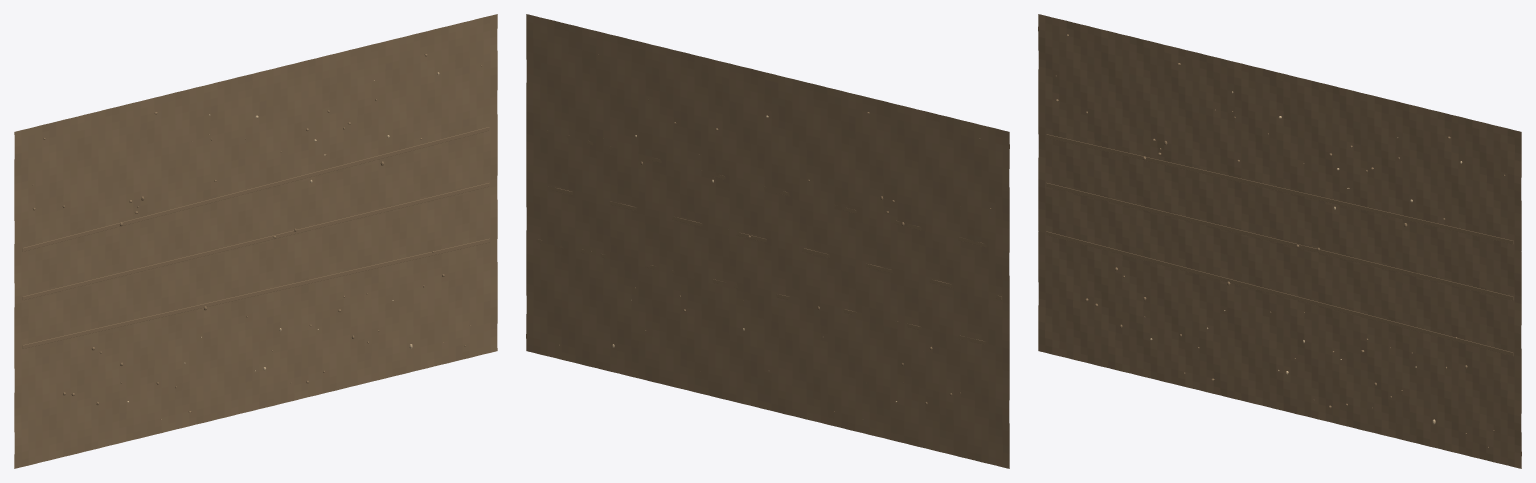
File: soil_patch_6x4.glb
3 renders of one model, left to right at view 1: azimuth 30°, elevation 25°; view 2: azimuth 150°, elevation 25°; view 3: azimuth 330°, elevation 25°, orthographic.
Parts seen in each view (by area): view 1: visual_soil_surface, darker_furrow_0, darker_furrow_1, darker_furrow_2; view 2: visual_soil_surface, darker_furrow_1, darker_furrow_0, darker_furrow_2; view 3: visual_soil_surface, darker_furrow_0, darker_furrow_1, darker_furrow_2.
Boxes of the visible parts, x1=… form: visual_soil_surface: x1=14, y1=14, x2=497, y2=468; darker_furrow_0: x1=22, y1=238, x2=489, y2=348; darker_furrow_1: x1=22, y1=183, x2=489, y2=300; darker_furrow_2: x1=22, y1=127, x2=489, y2=251; visual_soil_surface: x1=526, y1=14, x2=1009, y2=468; darker_furrow_1: x1=548, y1=186, x2=1001, y2=299; darker_furrow_0: x1=536, y1=239, x2=986, y2=344; darker_furrow_2: x1=544, y1=130, x2=986, y2=247; visual_soil_surface: x1=1038, y1=14, x2=1521, y2=468; darker_furrow_0: x1=1046, y1=231, x2=1513, y2=356; darker_furrow_1: x1=1046, y1=183, x2=1513, y2=300; darker_furrow_2: x1=1046, y1=134, x2=1513, y2=244.
Size of the model in its own units: 6 by 4 by 0.0476.
